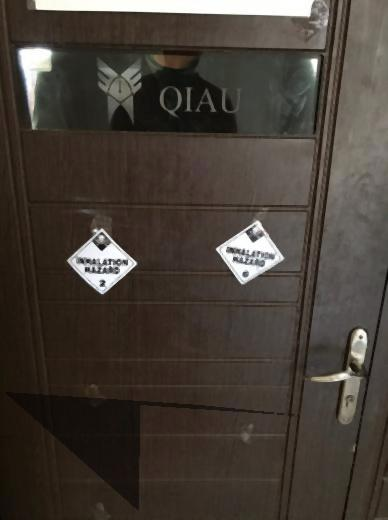poison: (66, 228, 139, 299), (213, 219, 286, 286)
